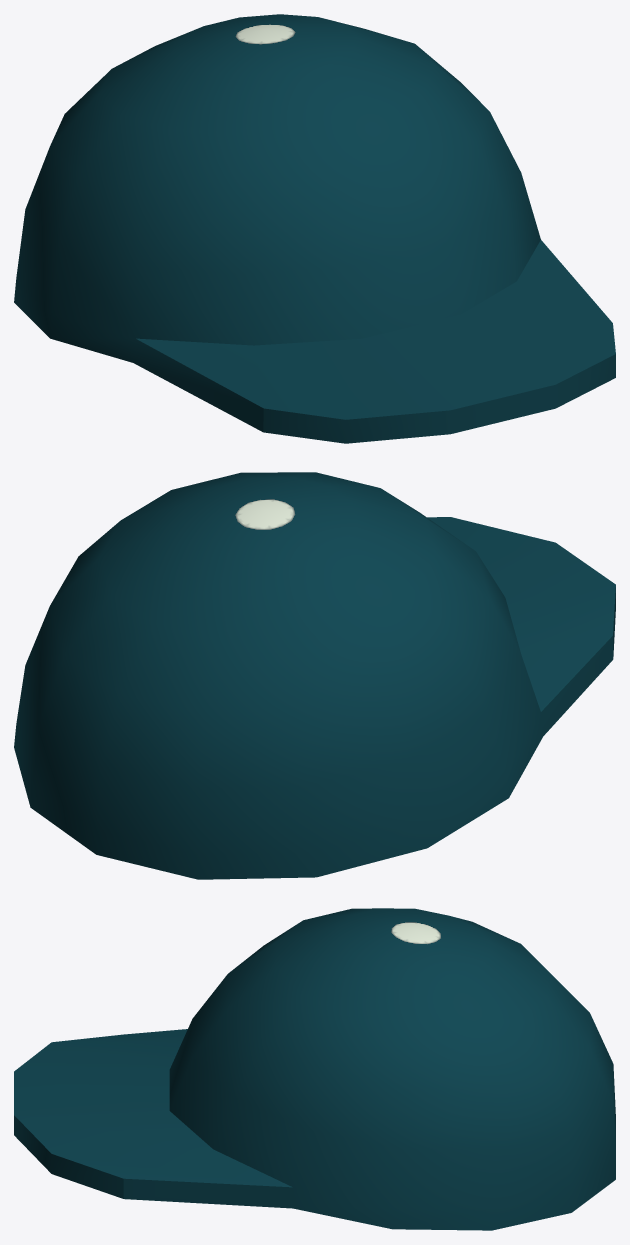
Rendered from Hat_cap.fbx.
3 views of the same model, one above another, from view 1: azimuth 30°, elevation 25°; view 2: azimuth 150°, elevation 25°; view 3: azimuth 270°, elevation 25° (orthographic). The views are drawn at different scales.
Parts seen in each view (by area): view 1: Hat_Cap; view 2: Hat_Cap; view 3: Hat_Cap.
Part boxes in pixels (x1=…): Hat_Cap: x1=14, y1=14, x2=615, y2=443; Hat_Cap: x1=14, y1=472, x2=615, y2=879; Hat_Cap: x1=14, y1=908, x2=615, y2=1230.
Size of the model in its own units: 138 by 78.04 by 186.
